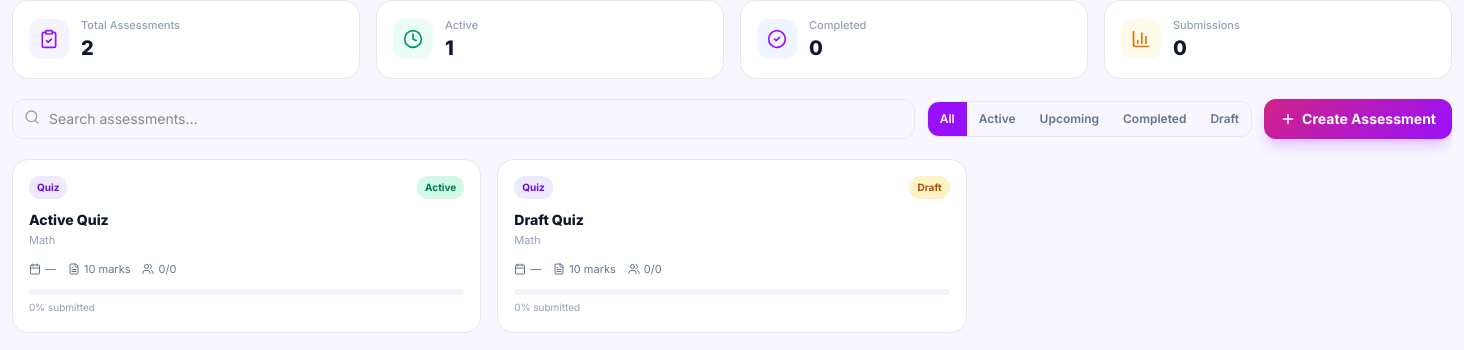
Test: AssessmentsPro › filters the list by status filter buttons
This screenshot has width=1464, height=350.
Expected: the heading "Active Quiz" is shown, [29,210,109,228]
Click the button "Draft".
click(1225, 118)  # box [1198,102,1251,136]
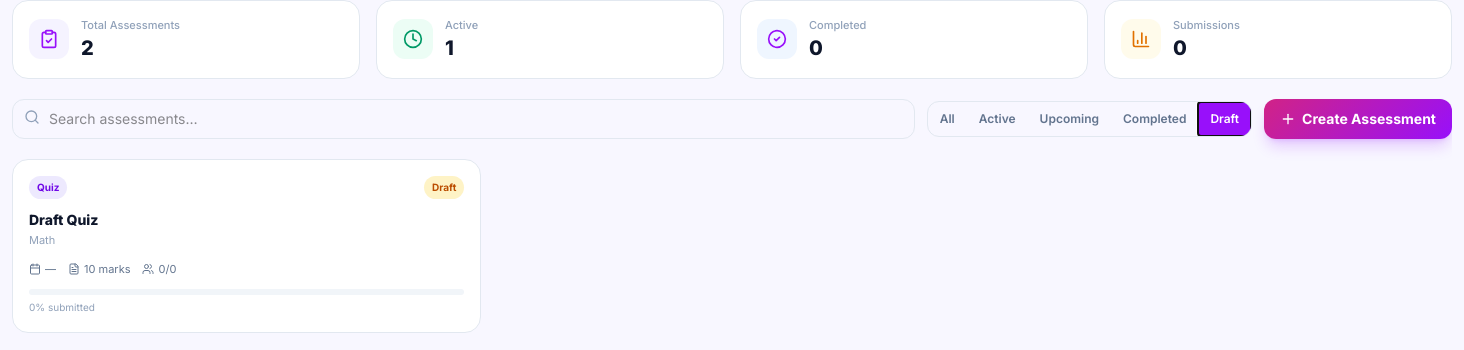
Expected: the heading "Draft Quiz" is shown, [29,210,98,228]
Result: the heading "Active Quiz" is gone
